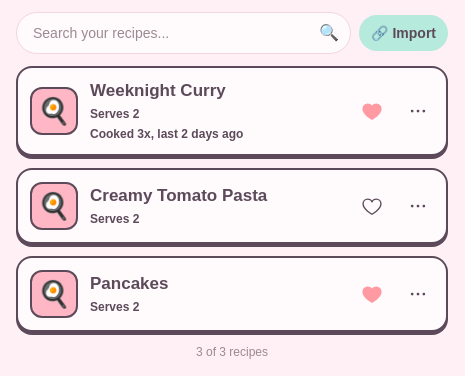
Test: ingredient search (issue #855) › finds a recipe by an ingredient that is not in the title
The width and height of the screenshot is (465, 376).
Type "chickpea dinner" into the field with placeholder "Search your recipes..." at (184, 33), box [16,12,351,54]
Wait 350 ms
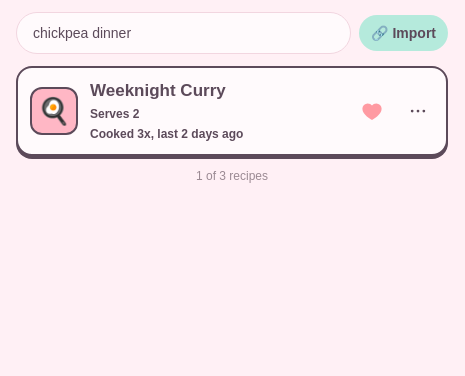
Expected: the text "Weeknight Curry" is shown, [90,81,226,100]
Expected: the number of elements with test id "recipe-card-saved" is 1, [16,66,448,156]
